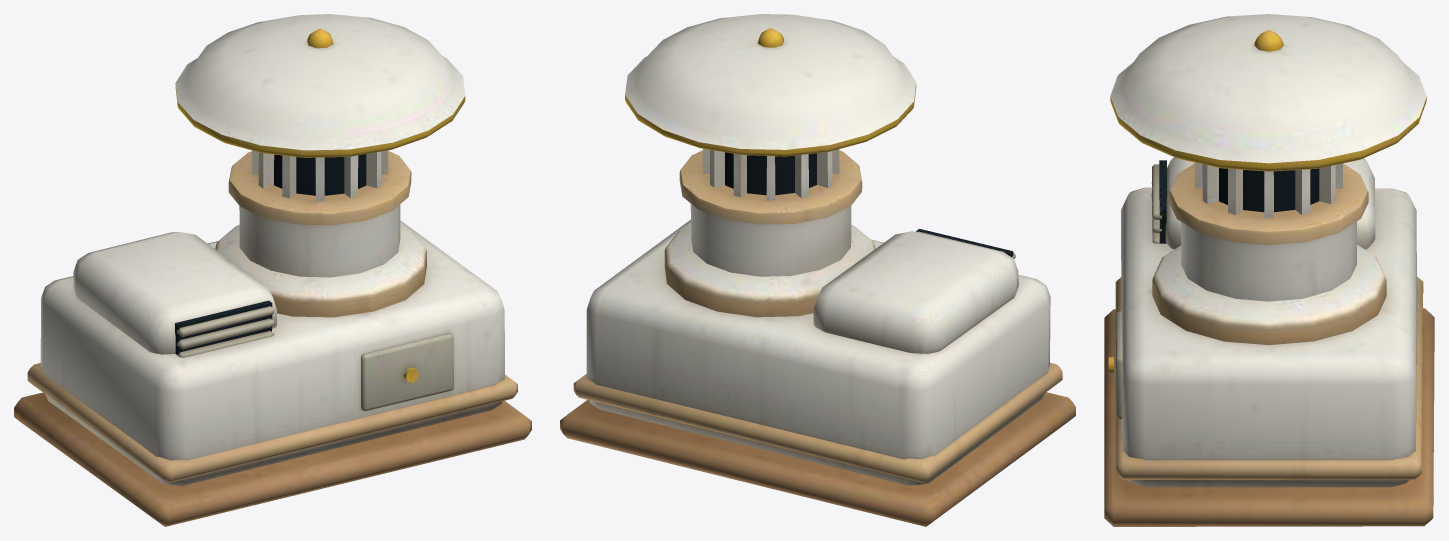
The model's file is vent.glb.
3 renders of one model, left to right at view 1: azimuth 30°, elevation 25°; view 2: azimuth 150°, elevation 25°; view 3: azimuth 270°, elevation 25°, orthographic. The views are drawn at different scales.
Parts seen in each view (by area): view 1: vent; view 2: vent; view 3: vent.
Boxes of the visible parts, bbox=[...] form: vent: bbox=[14, 14, 531, 526]; vent: bbox=[560, 14, 1075, 526]; vent: bbox=[1104, 14, 1434, 526].
Bounding box in the file's own units: 0.8012 × 0.8008 × 0.5612.
6 materials, 6 textured.
